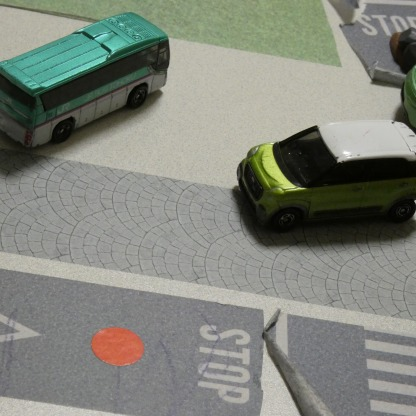car: (0, 11, 170, 153), (236, 112, 416, 233)
